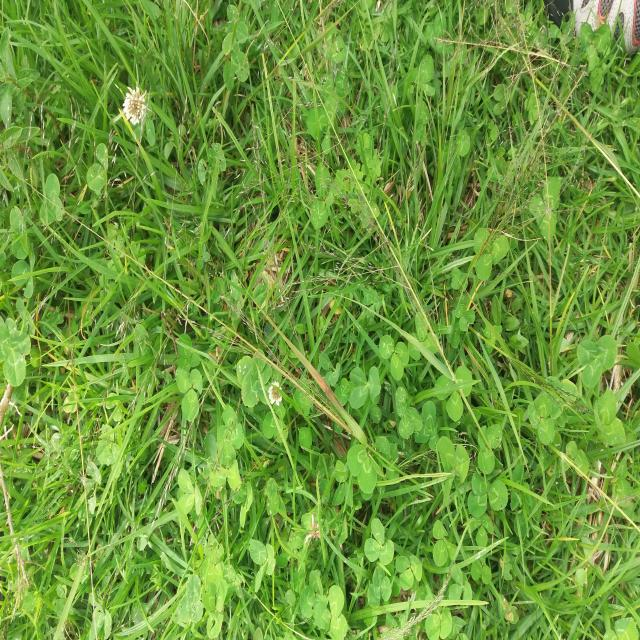Four Leaf Clover: (236, 349, 274, 408)
